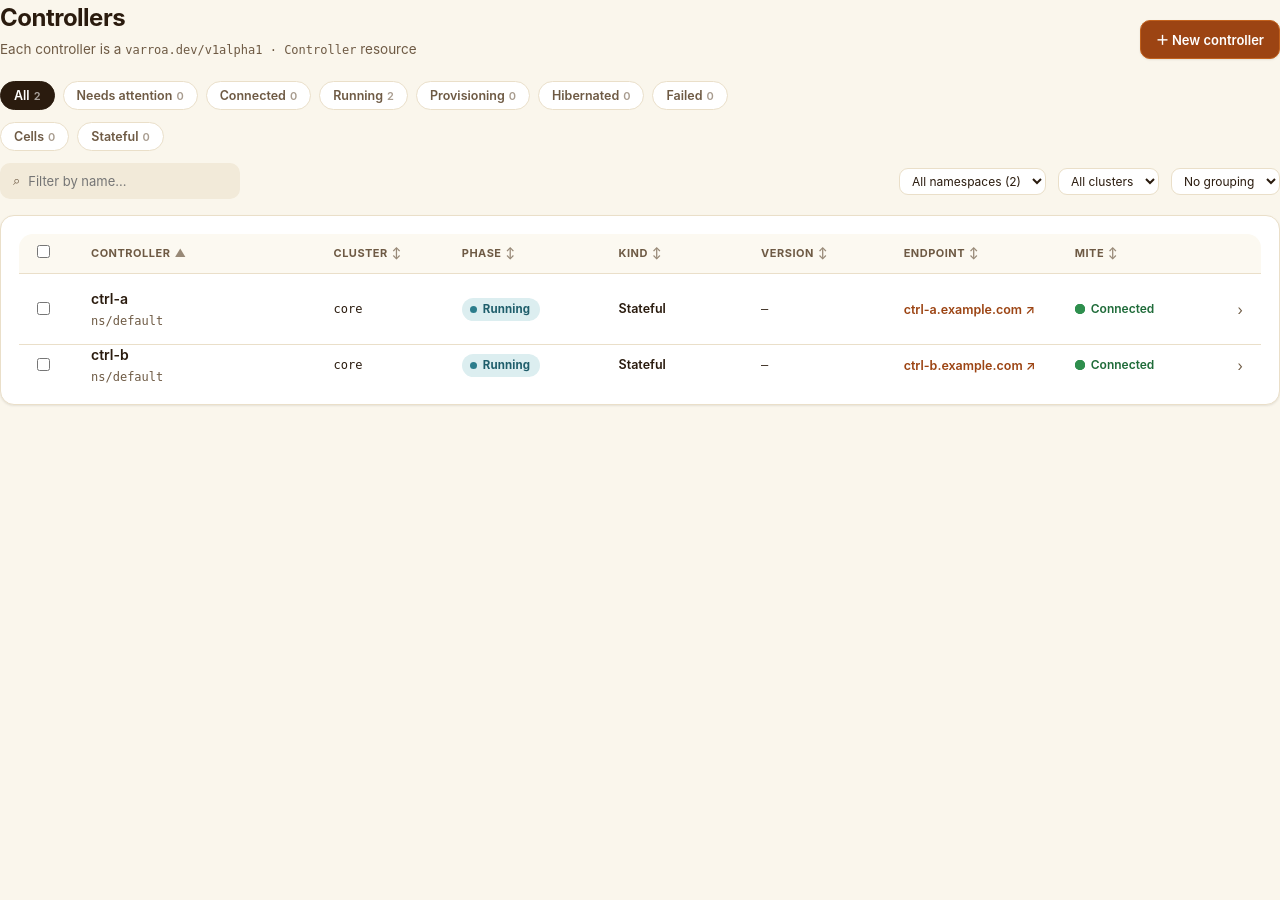
Test: Controllers › Run operation flow › selecting a controller in the picker shows the brood bar and opens the modal
Click the 2nd checkbox.
click(44, 308)  # box [37,302,50,315]
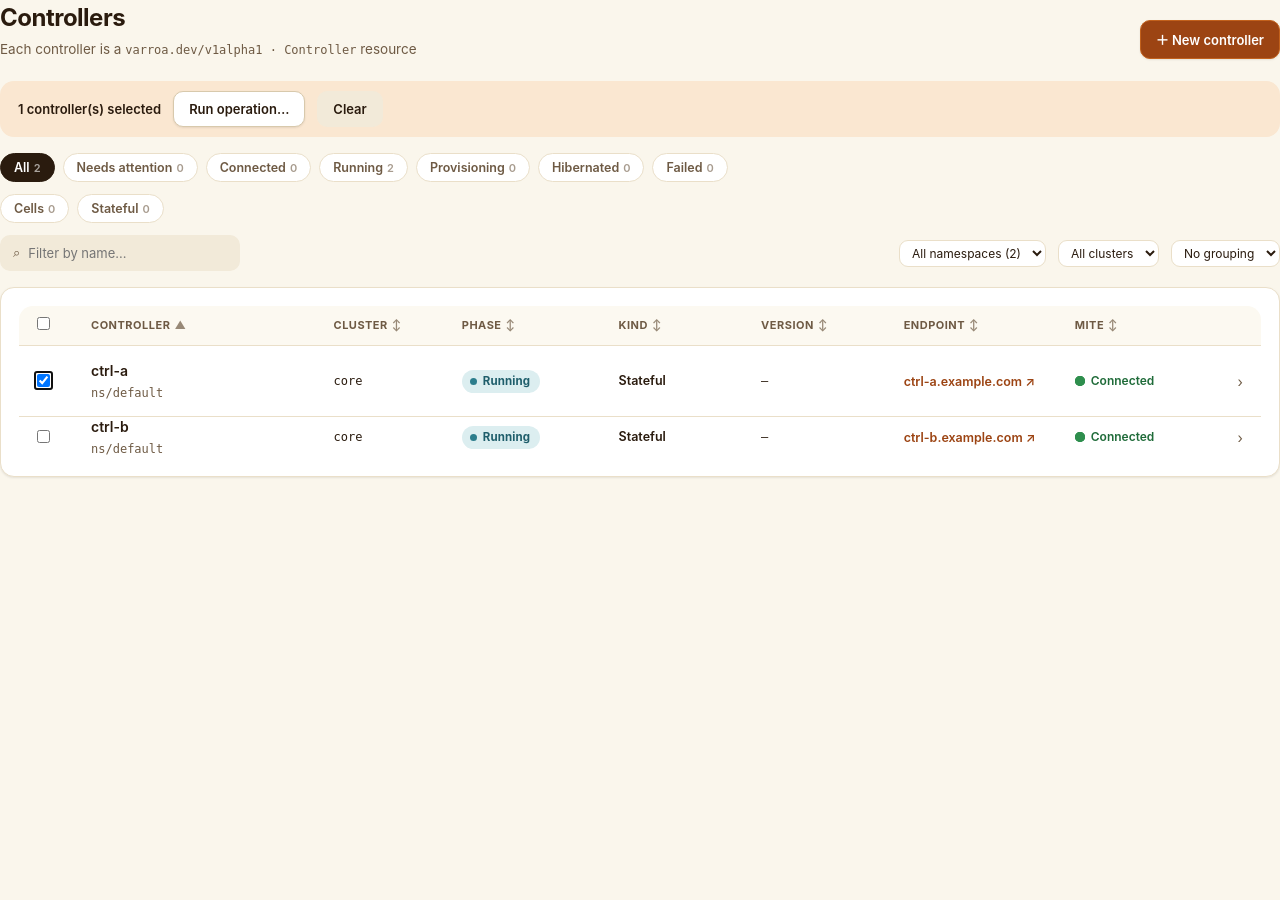
Result: the button "Run operation…" is shown
Click the button "Run operation…".
click(239, 109)  # box [173,91,305,127]
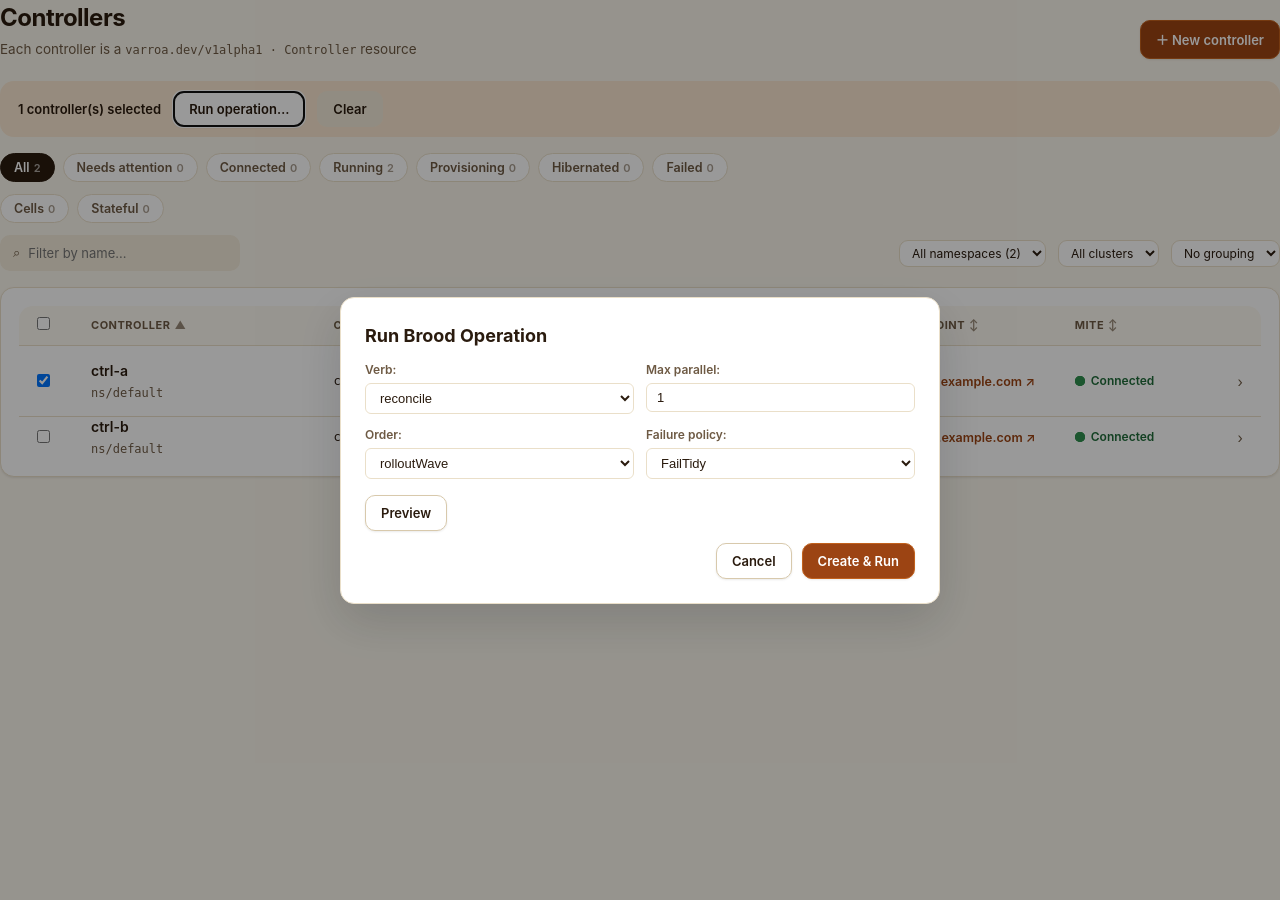
Result: the text "Run Brood Operation" is shown at [365,324,547,346]
